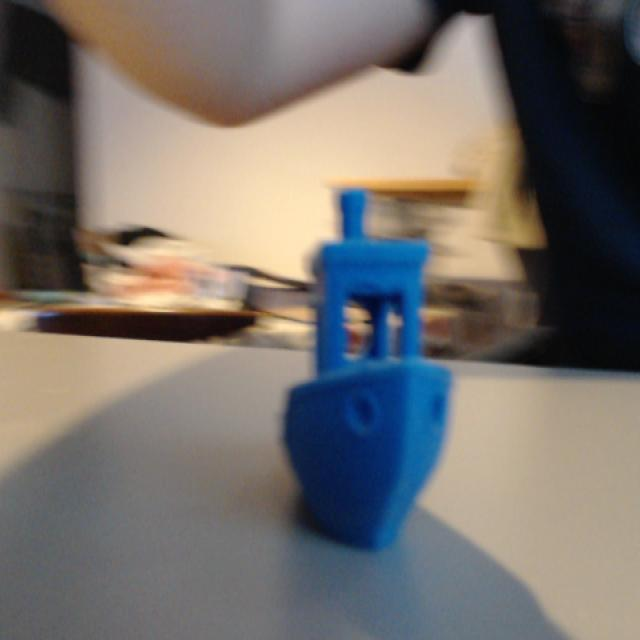benchy: (279, 183, 455, 552)
